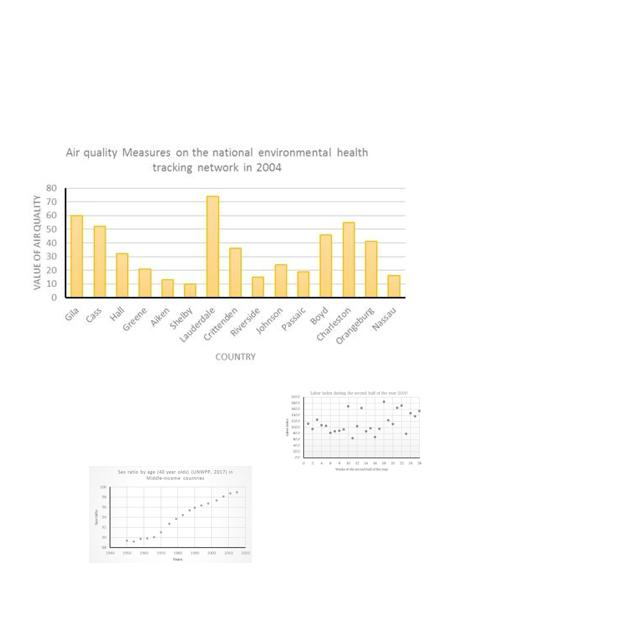Graph: (22, 138, 413, 367), (89, 466, 252, 563), (284, 389, 422, 472)
